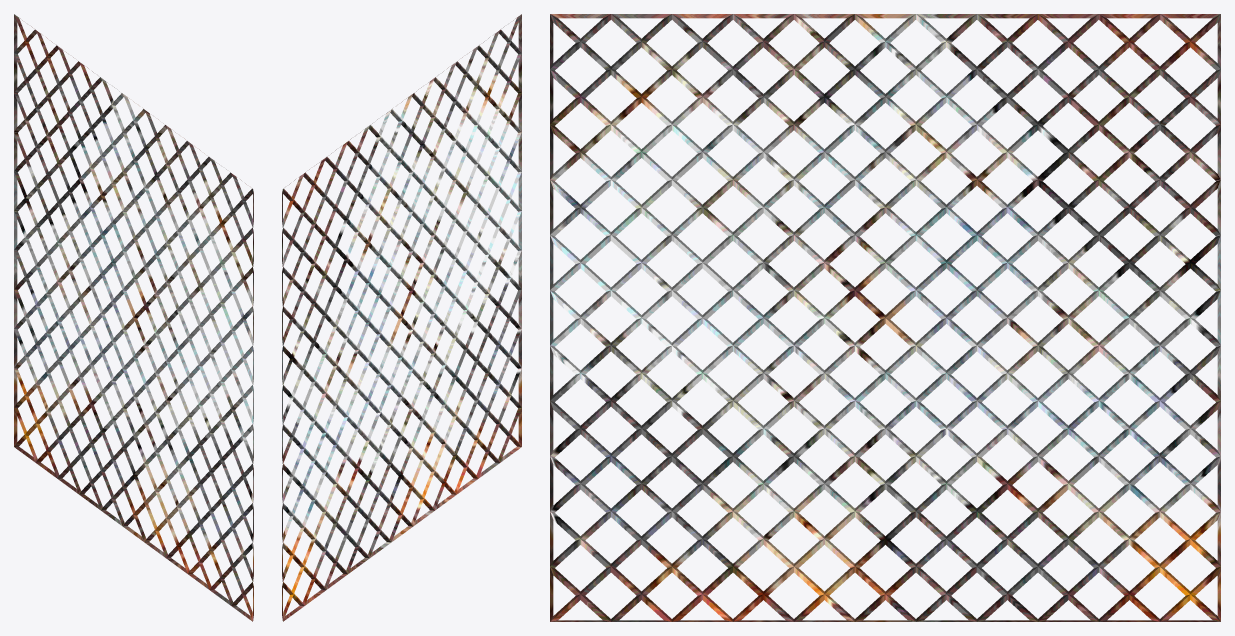
Rendered from grade.fbx.
3 views of the same model, side by side, from view 1: azimuth 30°, elevation 25°; view 2: azimuth 150°, elevation 25°; view 3: azimuth 270°, elevation 25° (orthographic). The views are drawn at different scales.
Visible parts, largest first — view 1: Plane.001; view 2: Plane.001; view 3: Plane.001.
Part boxes in pixels (box(x1,y1,x2,y2)): Plane.001: box(14, 14, 253, 621); Plane.001: box(282, 14, 521, 621); Plane.001: box(550, 14, 1220, 621).
Bounding box in the file's own units: 1.44 × 289 × 289.
Materials: 1 (1 with a texture image).
